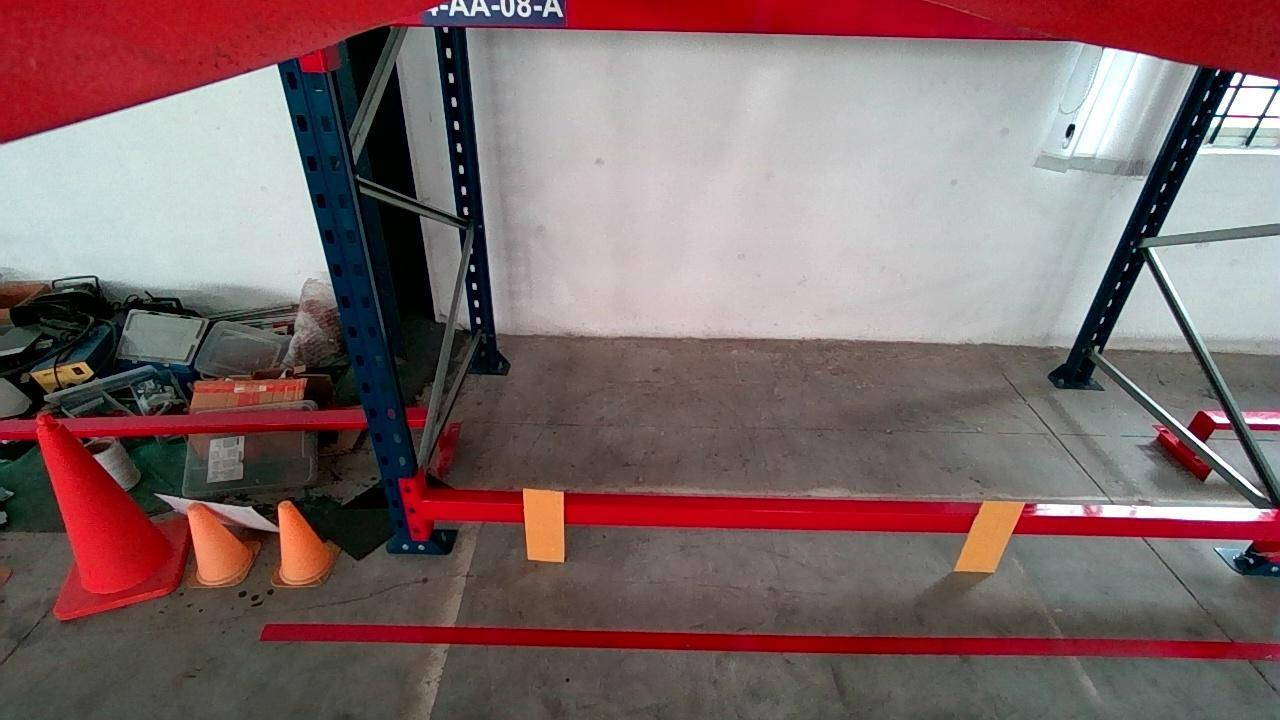h_rack: (422, 500, 1280, 542), (391, 0, 1049, 39)
orange_strip: (954, 501, 1030, 576), (523, 491, 567, 563)
red_line: (261, 622, 1279, 660)
